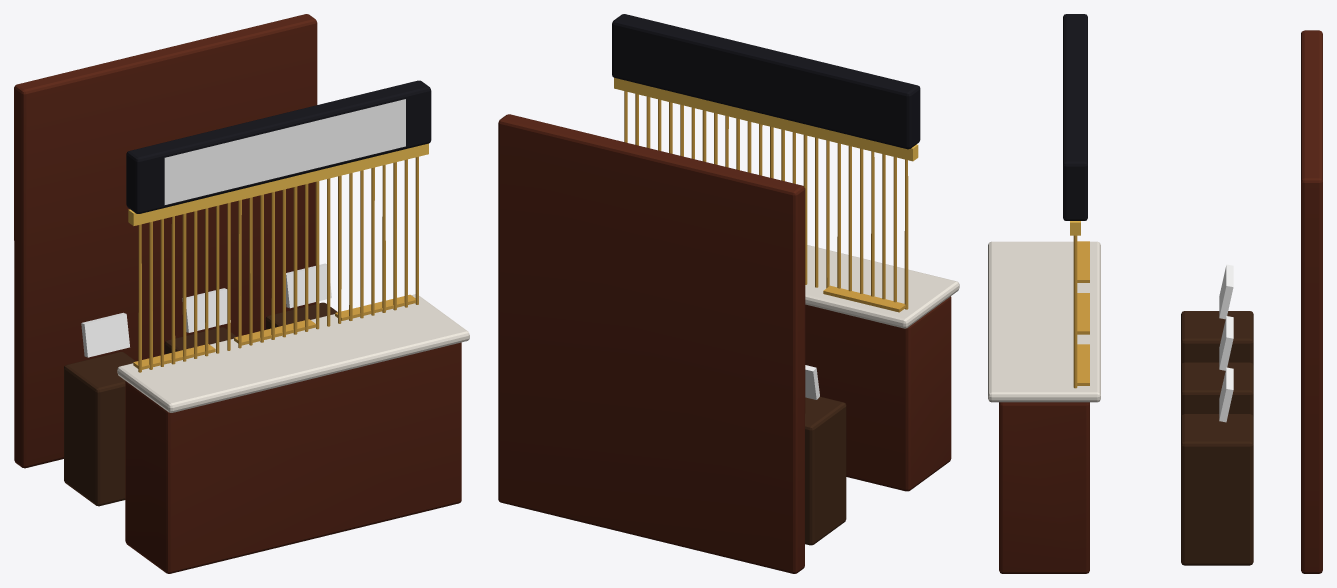
File: cashier-cage.glb
3 renders of one model, left to right at view 1: azimuth 30°, elevation 25°; view 2: azimuth 150°, elevation 25°; view 3: azimuth 270°, elevation 25°, orthographic. The views are drawn at different scales.
Parts seen in each view (by area): view 1: cashier-cage_lod0; view 2: cashier-cage_lod0; view 3: cashier-cage_lod0.
Part boxes in pixels (left/top/right/bottom): cashier-cage_lod0: left=14, top=14, right=469, bottom=573; cashier-cage_lod0: left=498, top=14, right=959, bottom=573; cashier-cage_lod0: left=988, top=14, right=1322, bottom=573.
Size of what is drawn, in the model's own units: 2 by 2.5 by 1.84.
